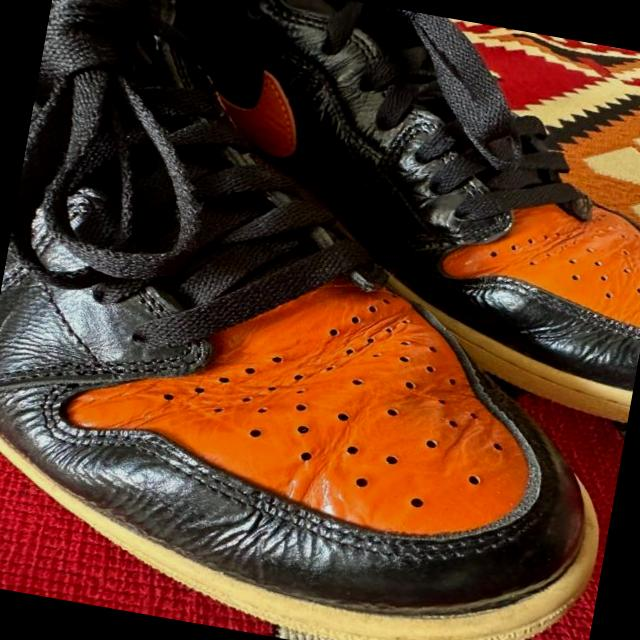nike_original_jordan: (0, 0, 640, 640), (122, 0, 640, 436)
